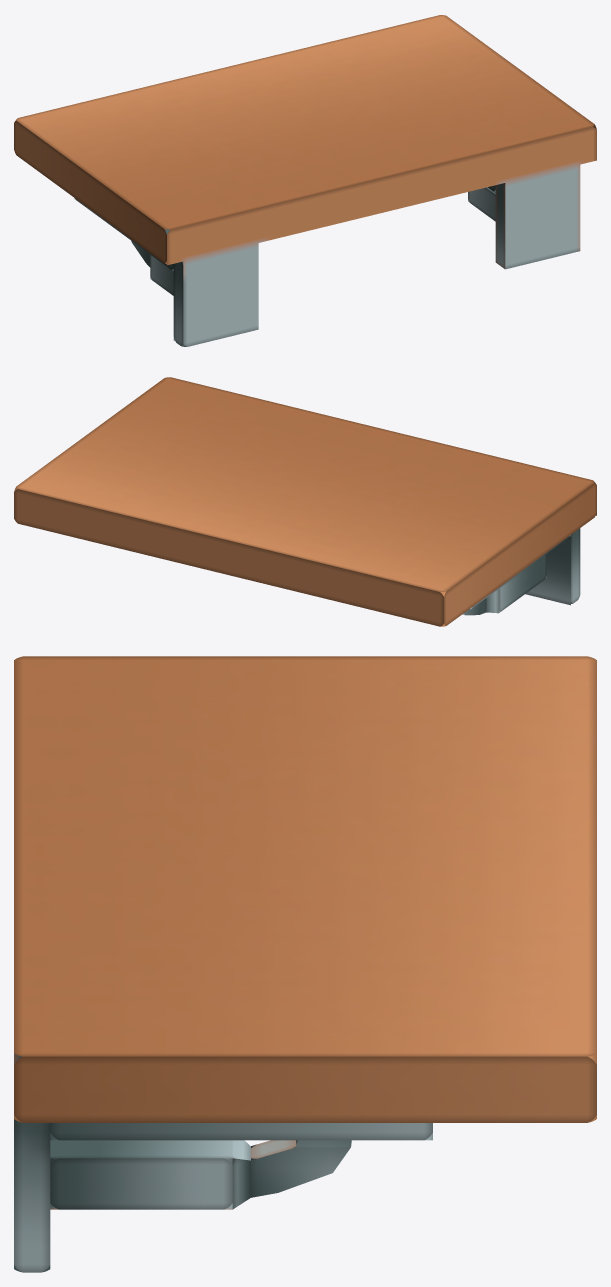
Rendered from wallShelf.fbx.
The picture shows the model from 3 angles, top to bottom: view 1: azimuth 30°, elevation 25°; view 2: azimuth 150°, elevation 25°; view 3: azimuth 270°, elevation 25°; orthographic projection. The views are drawn at different scales.
Parts seen in each view (by area): view 1: cuboid; view 2: cuboid; view 3: cuboid.
Boxes of the visible parts, x1,y1,x2,y2 form: cuboid: [14, 15, 596, 346]; cuboid: [14, 377, 596, 626]; cuboid: [14, 656, 596, 1272].
Size of the model in its own units: 162 by 43.75 by 100.
1 material, 1 textured.
